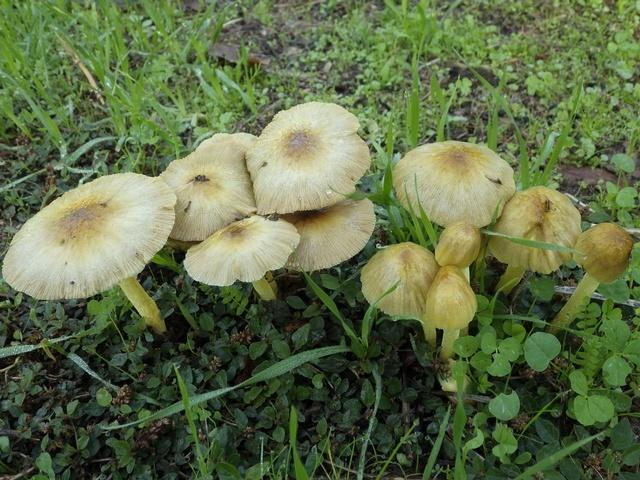edible_mushroom: (1, 171, 176, 335), (245, 100, 371, 215), (355, 232, 486, 331), (390, 139, 516, 229), (487, 184, 581, 295), (544, 221, 633, 336), (182, 213, 300, 287), (166, 127, 254, 225), (280, 204, 381, 282)
